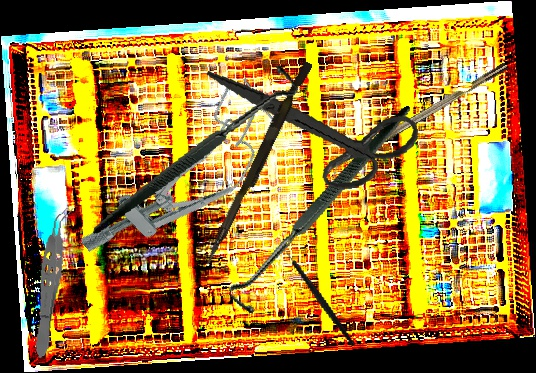Chopper: (326, 62, 514, 181), (274, 233, 356, 359)
Hook Surgical: (190, 105, 458, 318), (71, 61, 316, 235)
Iris Scissors: (206, 42, 425, 208)
Pusher: (204, 58, 313, 269)
Speculum: (68, 72, 296, 290)
Tissue Forceps: (28, 202, 75, 361)
